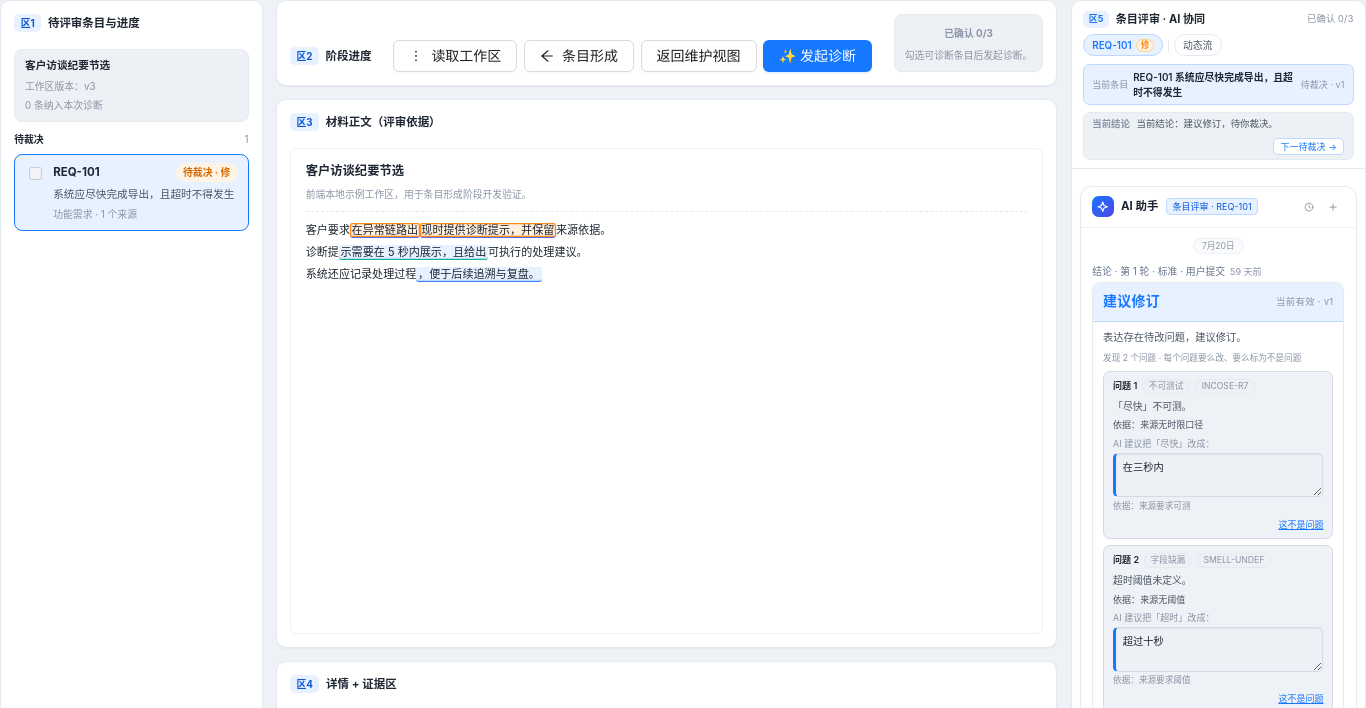
在问题块里写改后的文字 › 改过之后可以一键还原成 AI 写的
Check: the text "表达存在待改问题，建议修订。" is shown, box [1103, 331, 1247, 343]
Step 1. Replace the text in the text box with class "rv5-edit__box" below "来源无时限口径" with "在两秒内" → (1218, 475), box [1113, 453, 1324, 497]
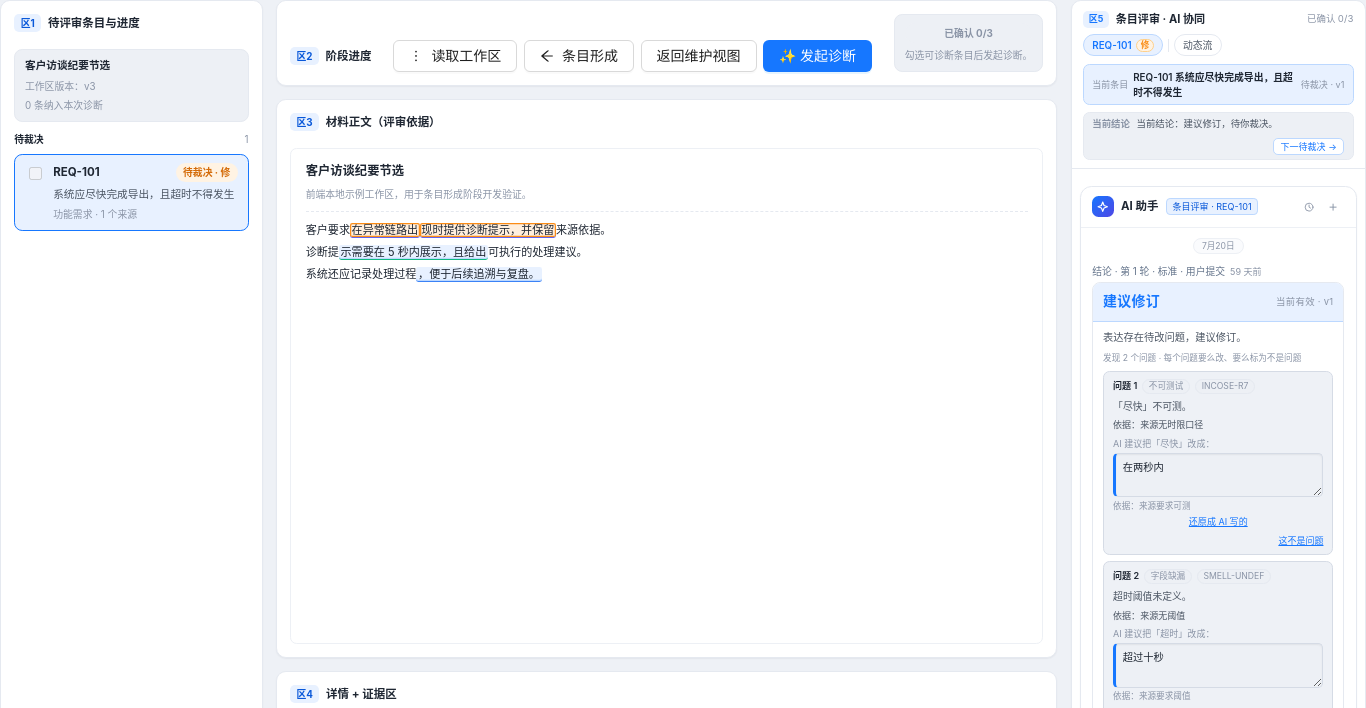
Step 2. Click the button "还原成 AI 写的" → (1218, 522), box [1113, 515, 1324, 529]
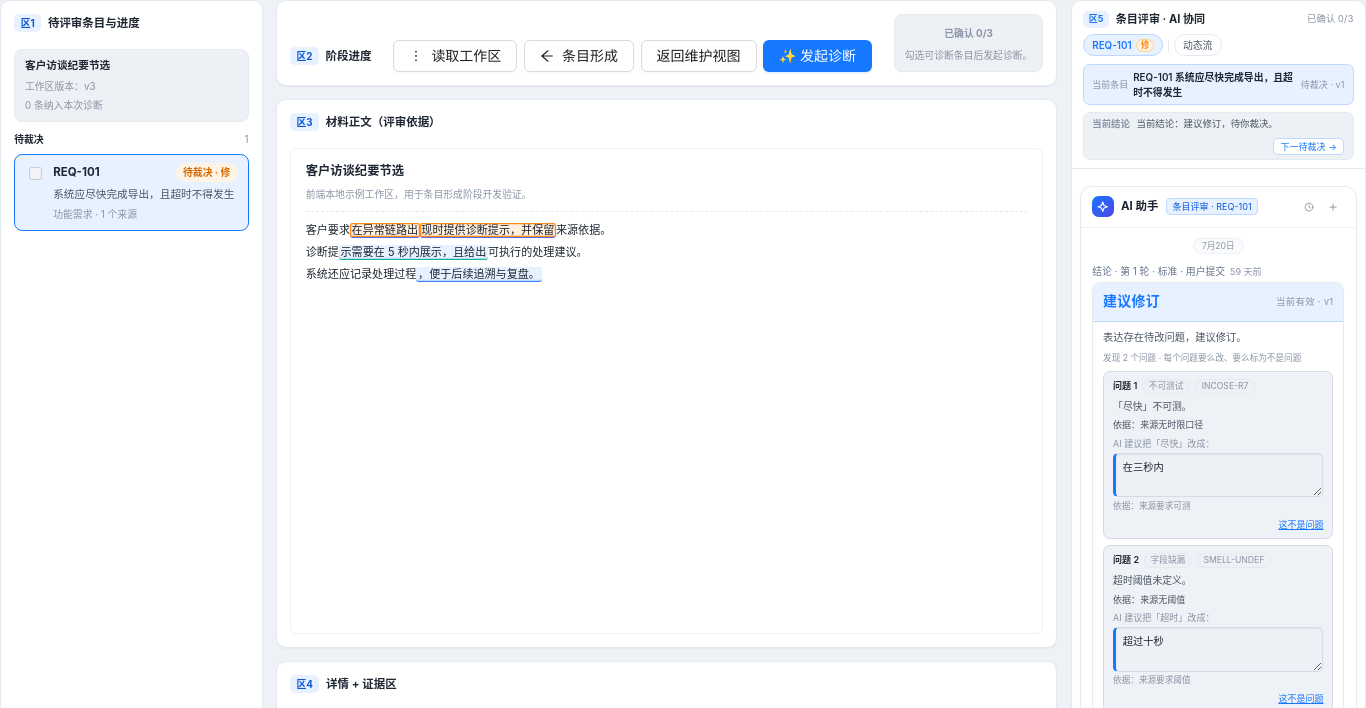
Check: the text box with class "rv5-edit__box" below "来源无时限口径" holds "在三秒内", box [1113, 453, 1324, 497]
